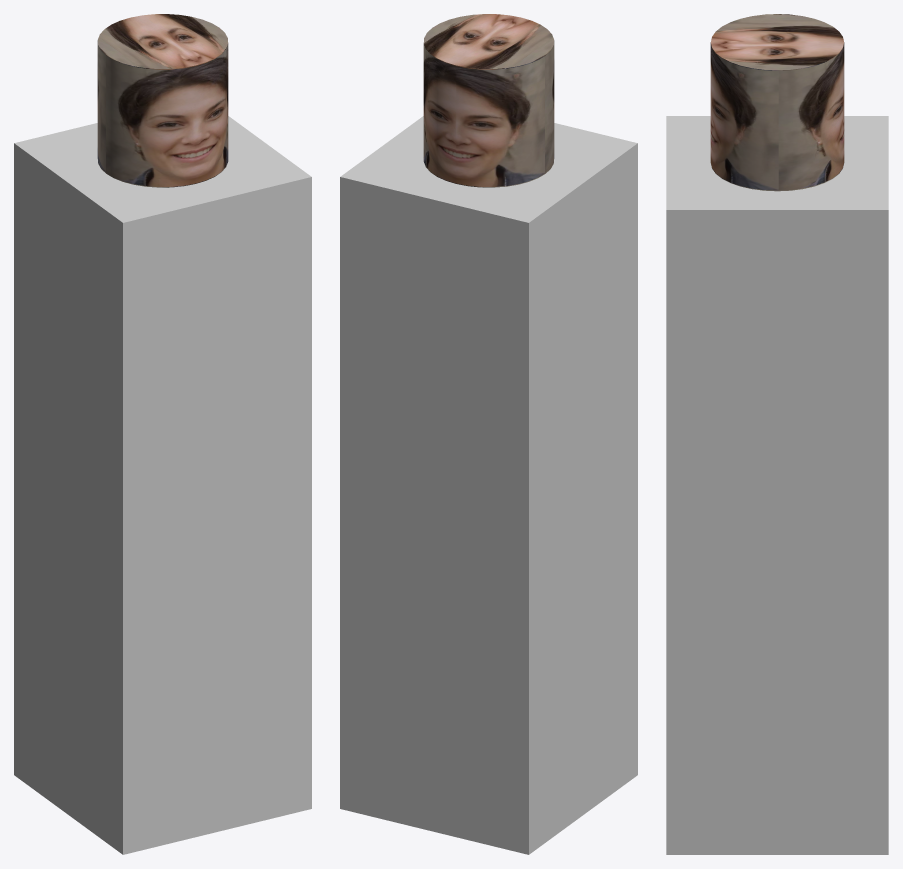
The model's file is Person3.dae.
The picture shows the model from 3 angles, left to right: view 1: azimuth 30°, elevation 25°; view 2: azimuth 150°, elevation 25°; view 3: azimuth 270°, elevation 25°; orthographic projection. The views are drawn at different scales.
Visible parts, largest first — view 1: 立方体, 柱体; view 2: 立方体, 柱体; view 3: 立方体, 柱体.
Boxes of the visible parts, x1,y1,x2,y2 form: 立方体: (14, 116, 311, 854); 柱体: (97, 14, 228, 187); 立方体: (340, 116, 637, 854); 柱体: (423, 14, 554, 187); 立方体: (666, 116, 888, 854); 柱体: (710, 14, 844, 191).
Bounding box in the file's own units: 0.5 × 0.5 × 1.9.
1 material, 1 textured.
